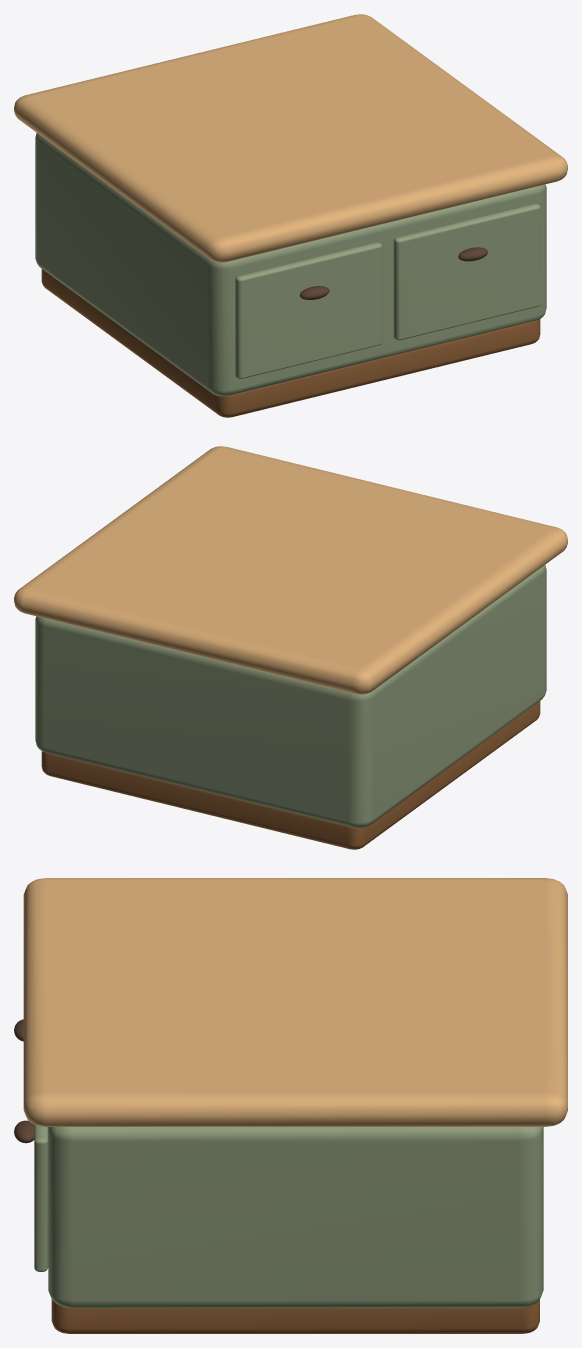
File: counter.obj
3 renders of one model, top to bottom at view 1: azimuth 30°, elevation 25°; view 2: azimuth 150°, elevation 25°; view 3: azimuth 270°, elevation 25°, orthographic. The views are drawn at different scales.
Parts seen in each view (by area): view 1: counter_oakLight, counter_sage, counter_oakDark, counter_cocoa; view 2: counter_oakLight, counter_sage, counter_oakDark; view 3: counter_oakLight, counter_sage, counter_oakDark, counter_cocoa.
Boxes of the visible parts, left/top/right/bottom form: counter_oakLight: left=14, top=14, right=567, bottom=262; counter_sage: left=35, top=133, right=546, bottom=396; counter_oakDark: left=41, top=269, right=540, bottom=417; counter_cocoa: left=299, top=247, right=487, bottom=299; counter_oakLight: left=14, top=446, right=567, bottom=694; counter_sage: left=35, top=565, right=546, bottom=828; counter_oakDark: left=41, top=701, right=540, bottom=849; counter_oakLight: left=23, top=878, right=567, bottom=1126; counter_sage: left=34, top=1124, right=543, bottom=1308; counter_oakDark: left=51, top=1299, right=539, bottom=1333; counter_cocoa: left=14, top=1019, right=34, bottom=1143.
Bounding box in the file's own units: 0.78 × 0.3947 × 0.794.
